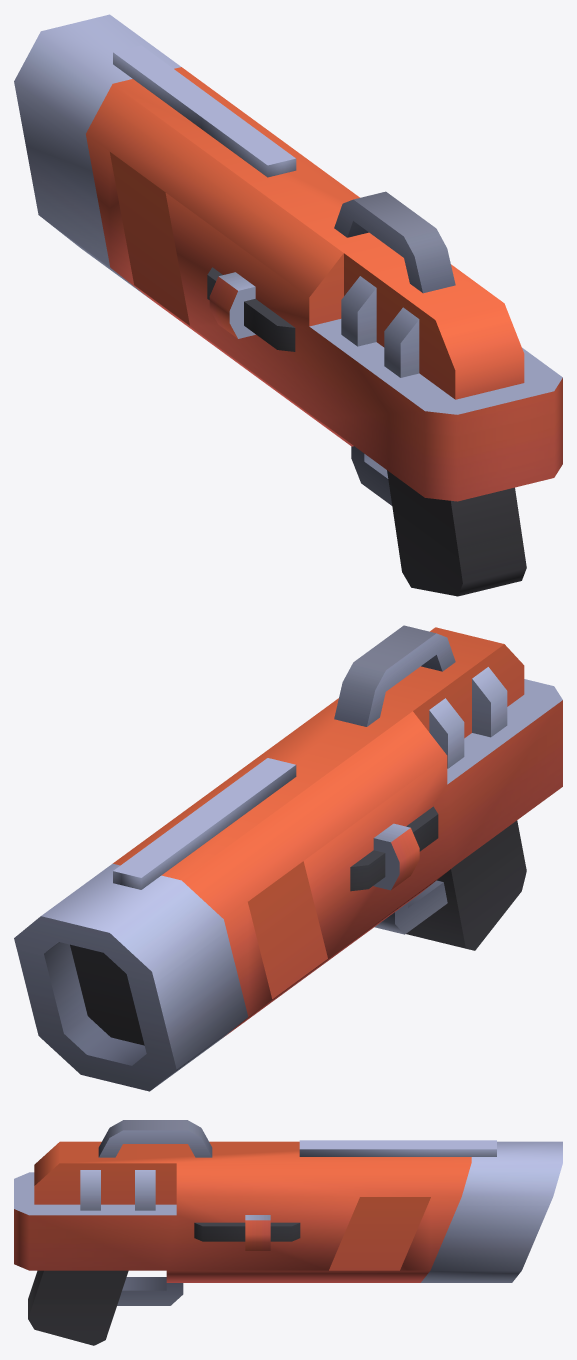
The model's file is blaster-h.glb.
The picture shows the model from 3 angles, top to bottom: view 1: azimuth 30°, elevation 25°; view 2: azimuth 150°, elevation 25°; view 3: azimuth 270°, elevation 25°; orthographic projection. The views are drawn at different scales.
Visible parts, largest first — view 1: blaster-h; view 2: blaster-h; view 3: blaster-h.
Boxes of the visible parts, left/top/right/bottom form: blaster-h: left=14, top=14, right=562, bottom=596; blaster-h: left=14, top=625, right=562, bottom=1091; blaster-h: left=14, top=1120, right=562, bottom=1345.
Bounding box in the file's own units: 0.165 × 0.2745 × 0.648.
Materials: 1 (1 with a texture image).
